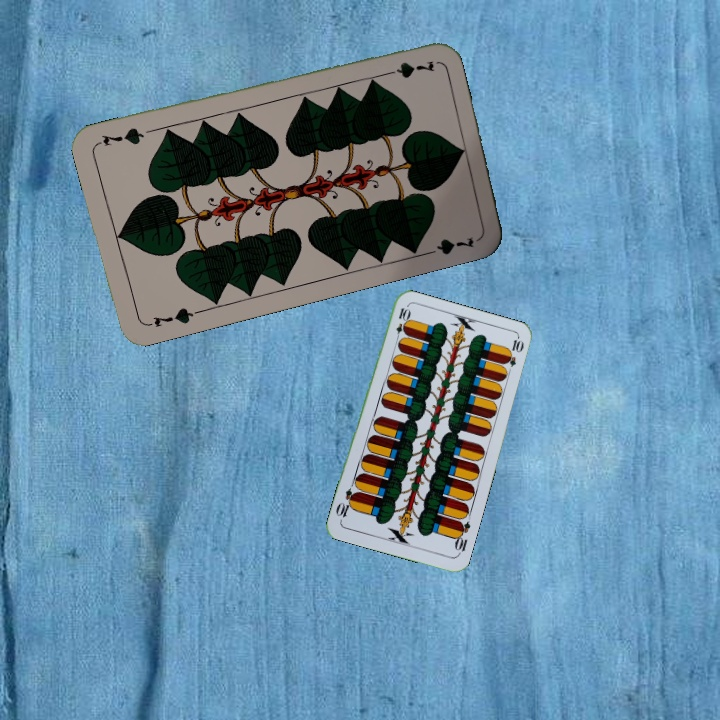E10: (450, 517, 473, 558), (392, 304, 411, 344)
G7: (142, 303, 201, 330), (377, 56, 436, 79)
